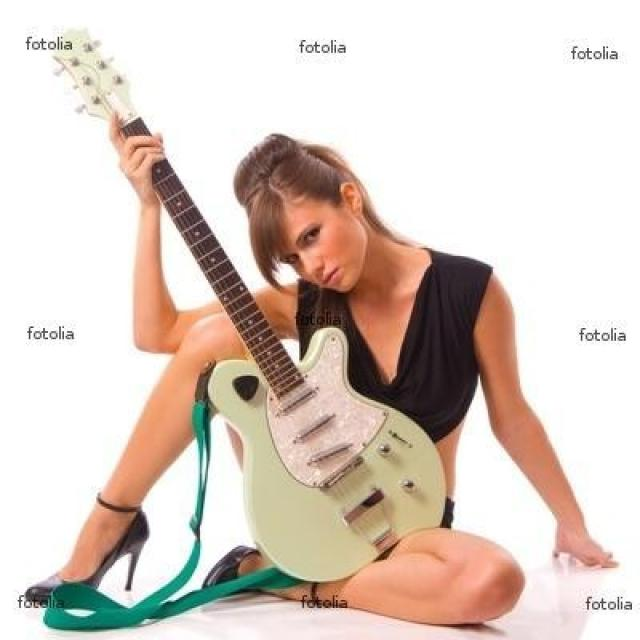guitar: (46, 22, 450, 584)
